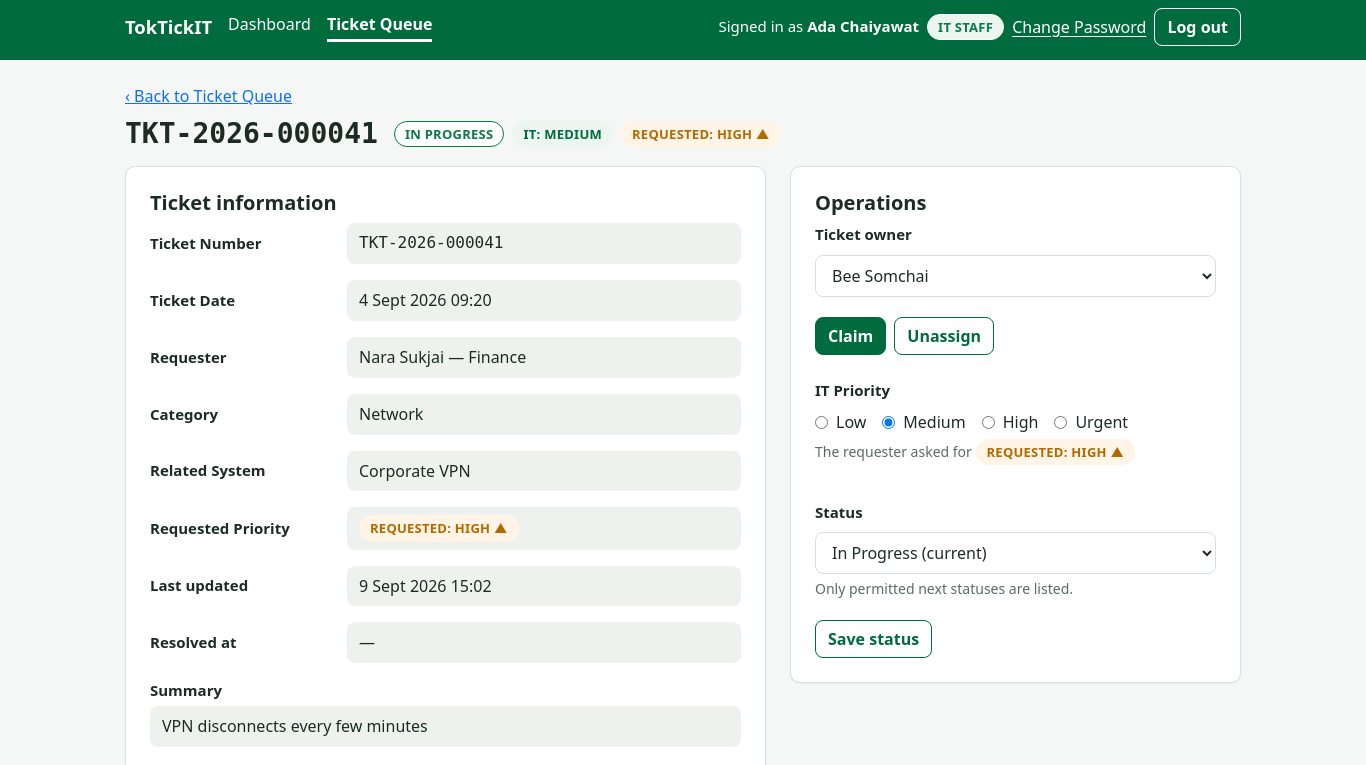
Test case: UI-25 RESOLVED, CLOSED, and CANCELLED require confirmation (AC-44, BR-37) › IN_PROGRESS → CANCELLED: the dialog names the Ticket and the status; cancelling sends nothing
Select "Cancelled" in the dropdown labelled "Status" at x=1016, y=553, box left=815, top=532, right=1216, bottom=574
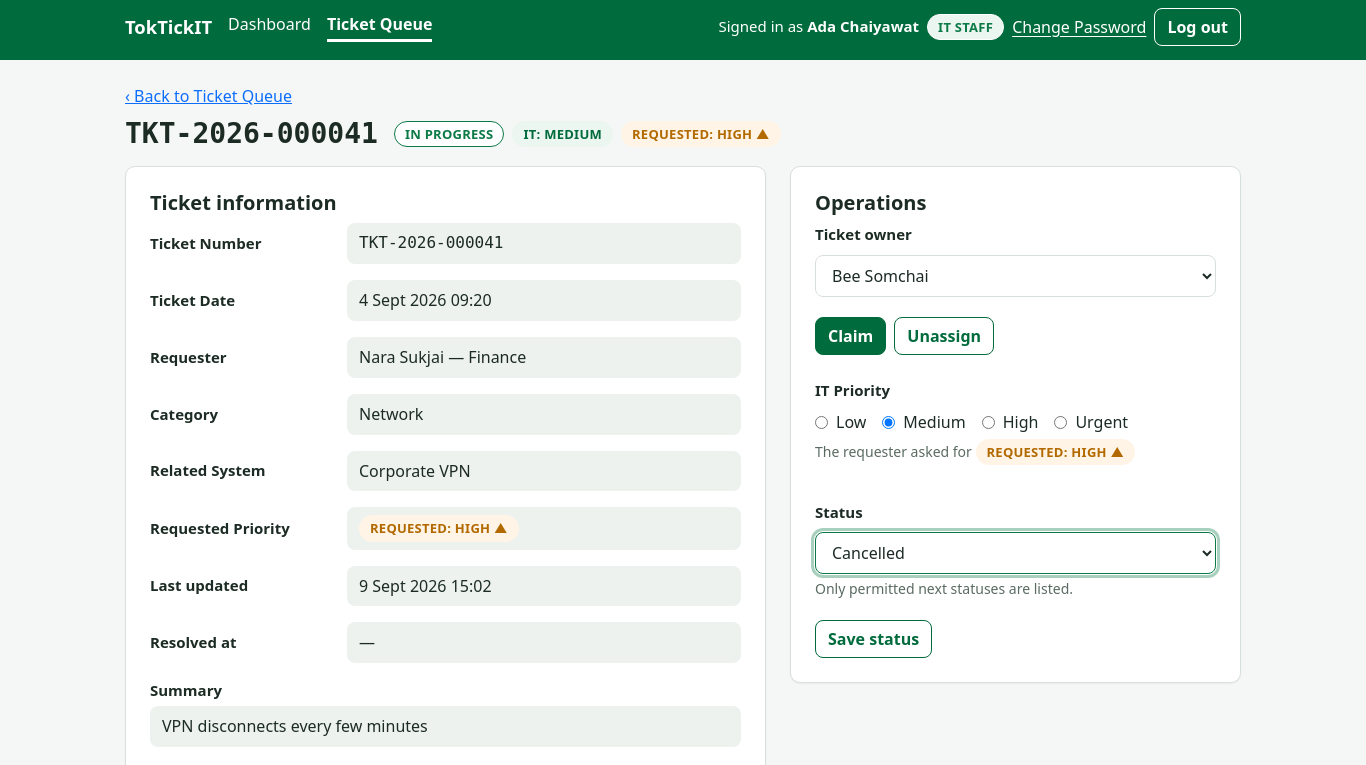
Click the button "Save status" at x=874, y=639, box left=815, top=620, right=932, bottom=658
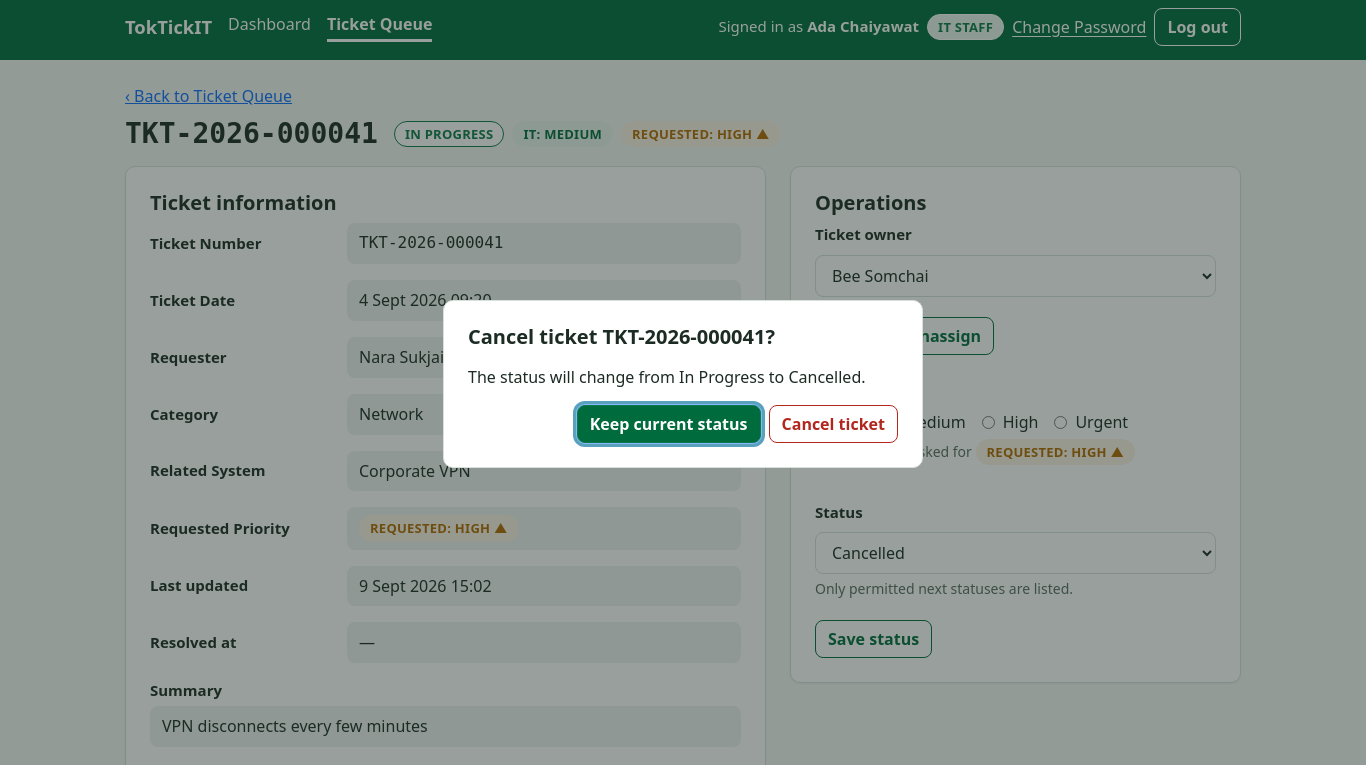
Check: the dialog "Cancel ticket TKT-2026-000041?" shows "Cancelled", box left=788, top=366, right=861, bottom=388
Click the button "Keep current status" at x=669, y=424, box left=577, top=405, right=760, bottom=443
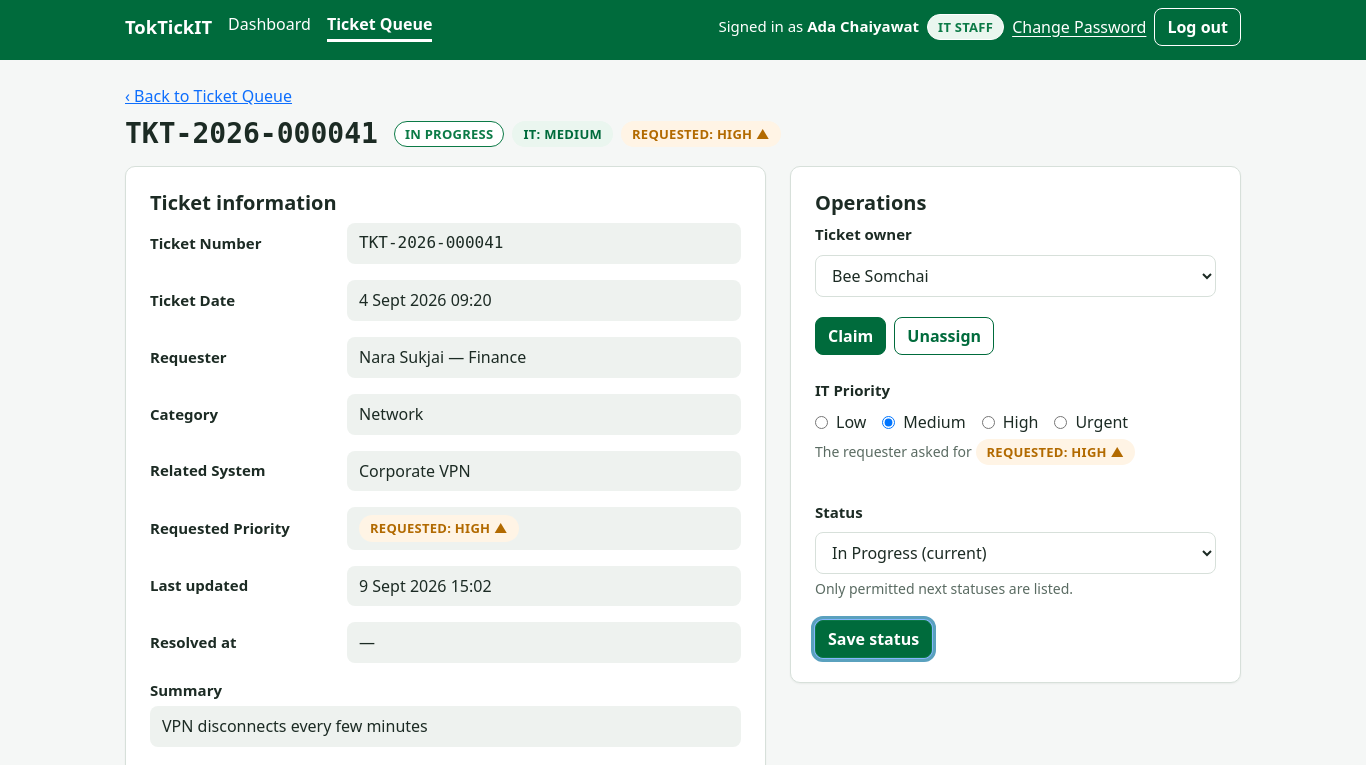
Check: the button "Save status" is enabled, box left=815, top=620, right=932, bottom=658
Check: the dialog is gone
